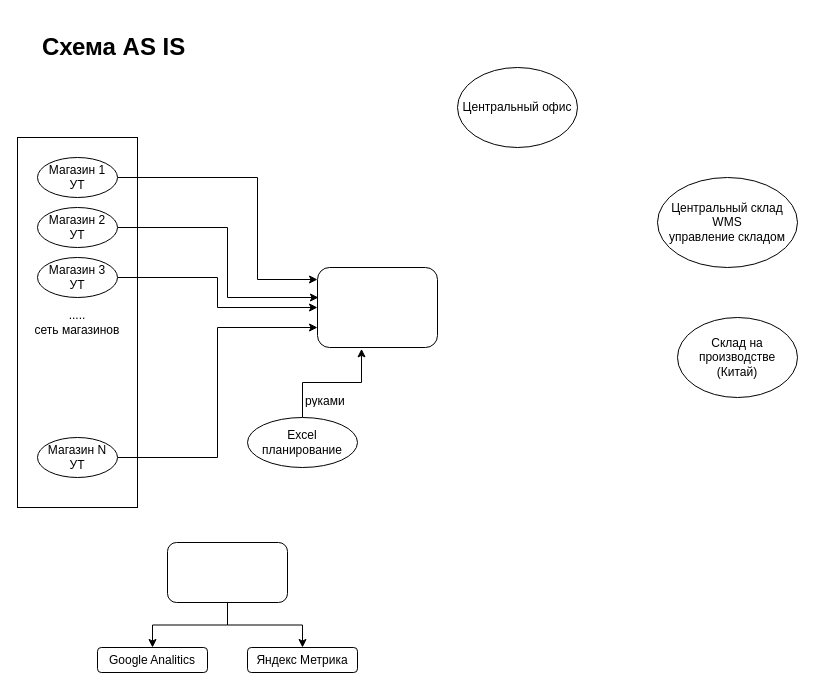
Image size: 815x690. Some labels were removed from this diagram. Here are the shapes that lost their labels. From the top down, the centre of each, then its label:
At point 377,307: "ХД Oracle (T+2)".
At point 227,572: "Инетрнет магазин. самописная платформа".
